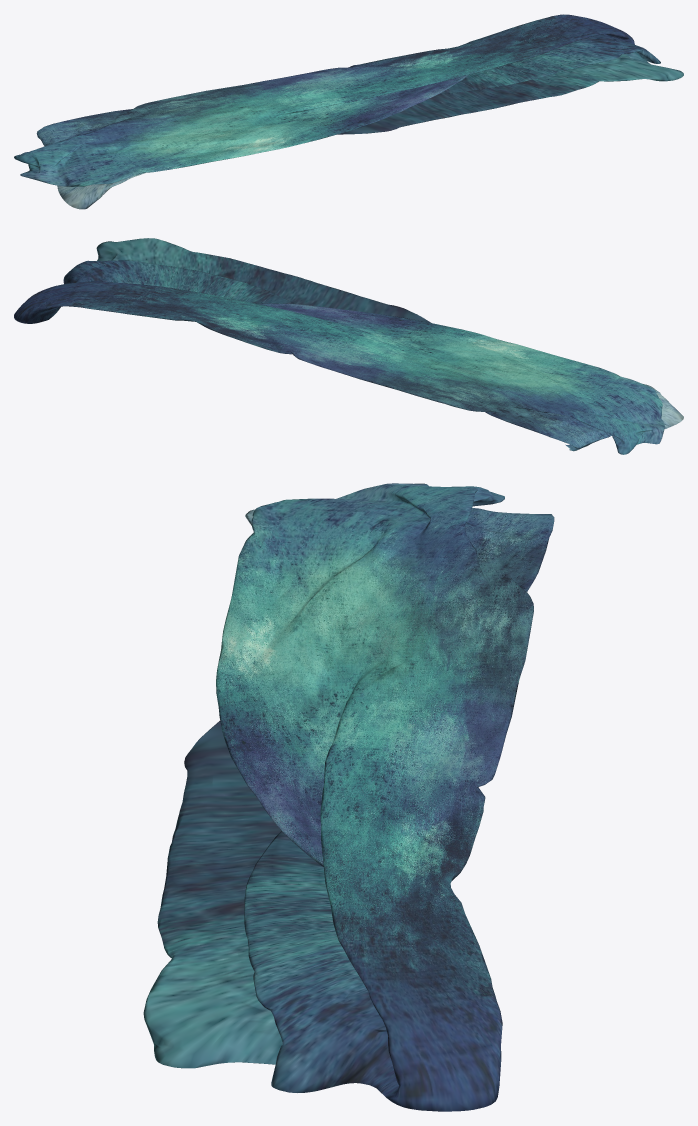
The model's file is blanket.obj.
3 renders of one model, top to bottom at view 1: azimuth 30°, elevation 25°; view 2: azimuth 150°, elevation 25°; view 3: azimuth 270°, elevation 25°, orthographic. The views are drawn at different scales.
Visible parts, largest first — view 1: alivar_arca_standard_mat_2_3_alivar_arca_standard_mat_2_3.001; view 2: alivar_arca_standard_mat_2_3_alivar_arca_standard_mat_2_3.001; view 3: alivar_arca_standard_mat_2_3_alivar_arca_standard_mat_2_3.001.
Part boxes in pixels (bbox=[...]): alivar_arca_standard_mat_2_3_alivar_arca_standard_mat_2_3.001: bbox=[14, 14, 683, 209]; alivar_arca_standard_mat_2_3_alivar_arca_standard_mat_2_3.001: bbox=[14, 238, 683, 454]; alivar_arca_standard_mat_2_3_alivar_arca_standard_mat_2_3.001: bbox=[143, 483, 554, 1111].
Size of the model in its own units: 17.42 by 0.8912 by 5.06.
1 material, 1 textured.
